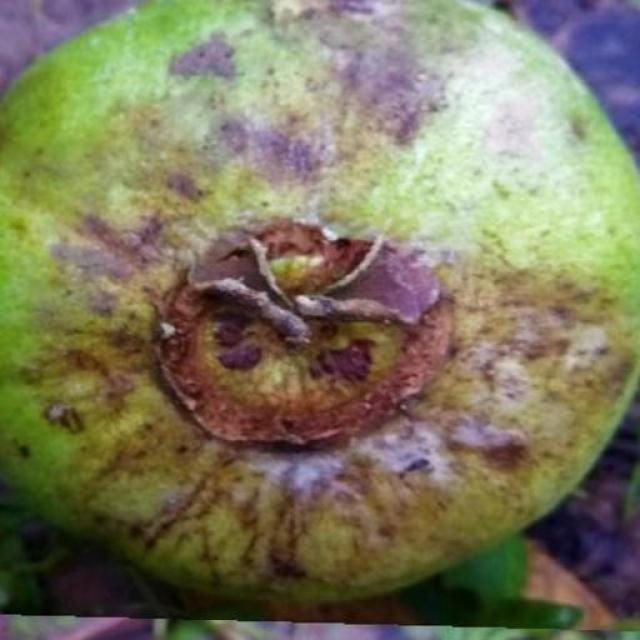Styler_Root: (0, 0, 640, 601)
